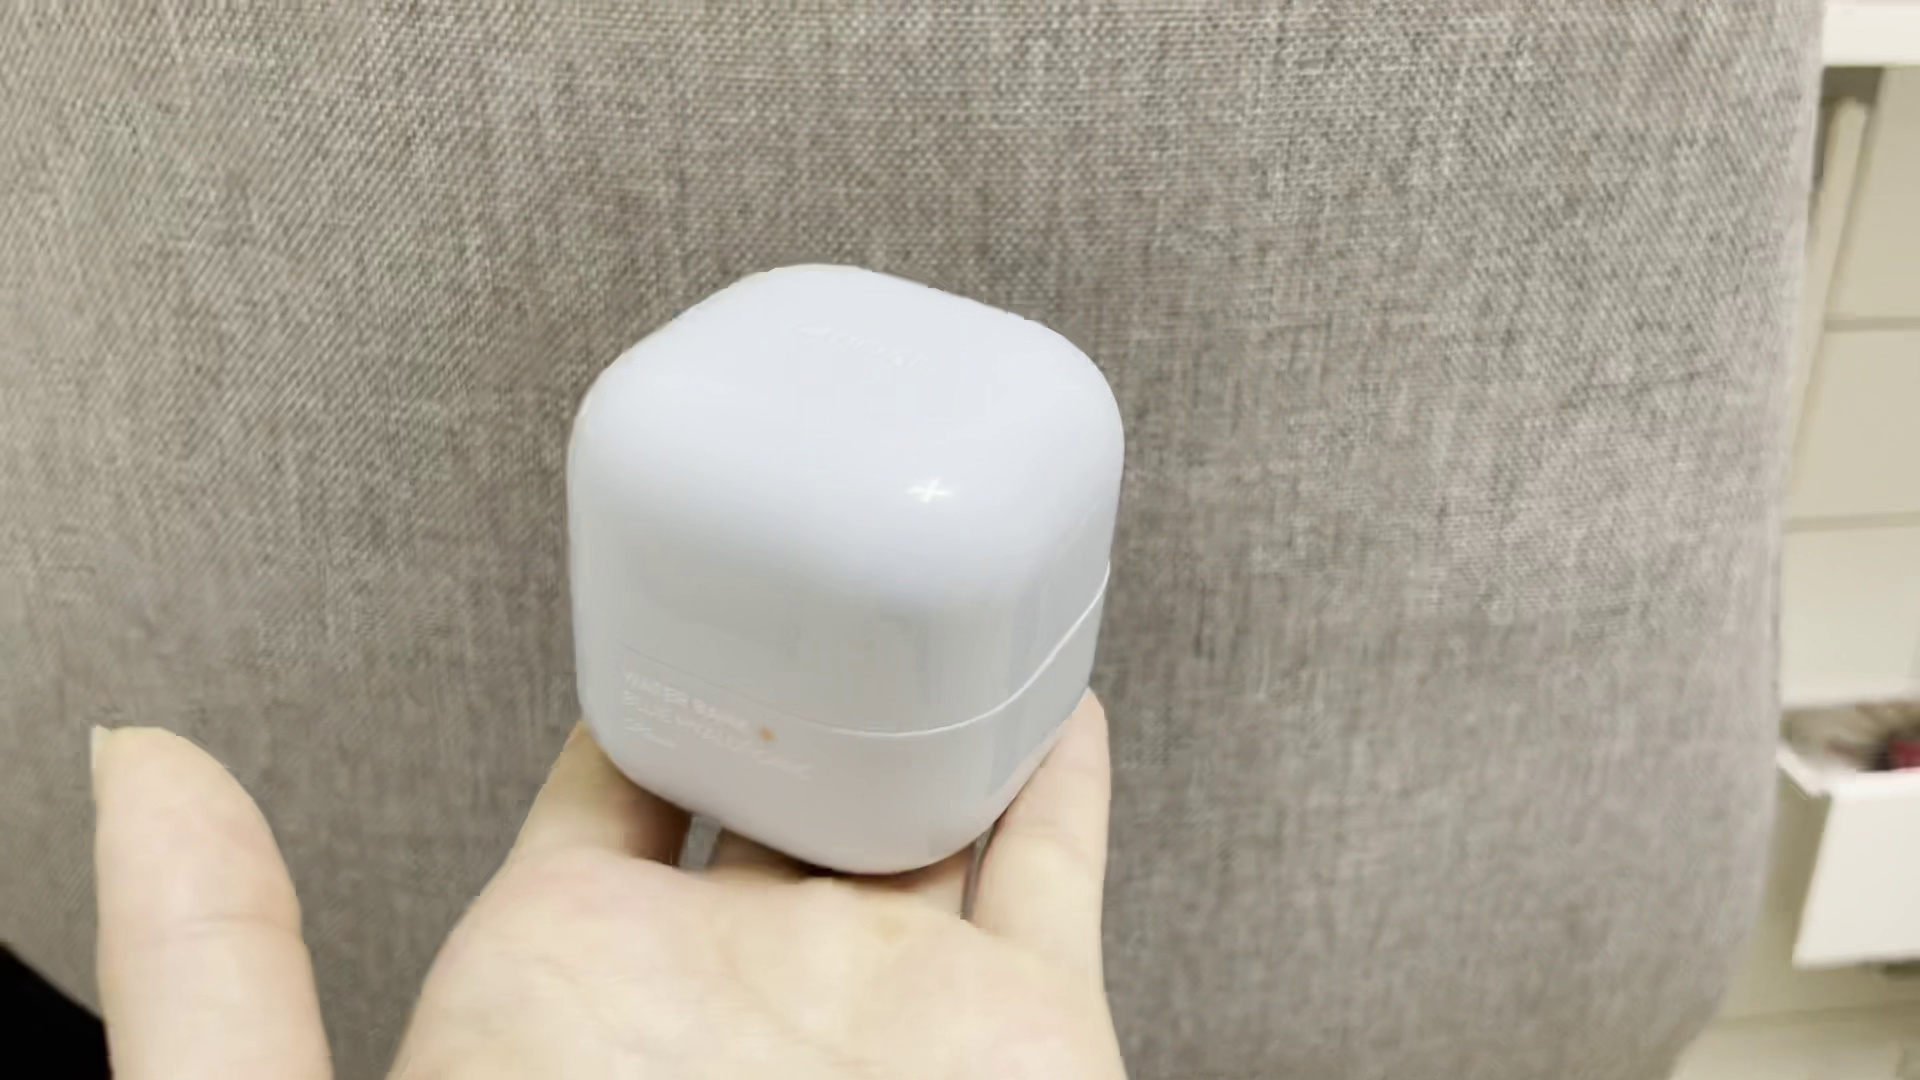cream: (570, 260, 1118, 878)
